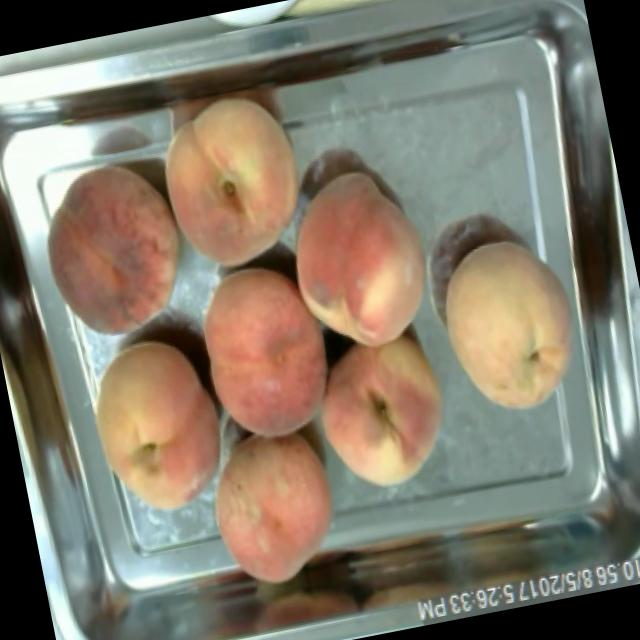Fruit: (267, 154, 451, 370), (422, 218, 606, 432), (139, 80, 327, 288), (22, 146, 205, 356), (69, 322, 242, 536), (182, 248, 348, 458), (298, 320, 467, 509), (192, 420, 356, 592)
